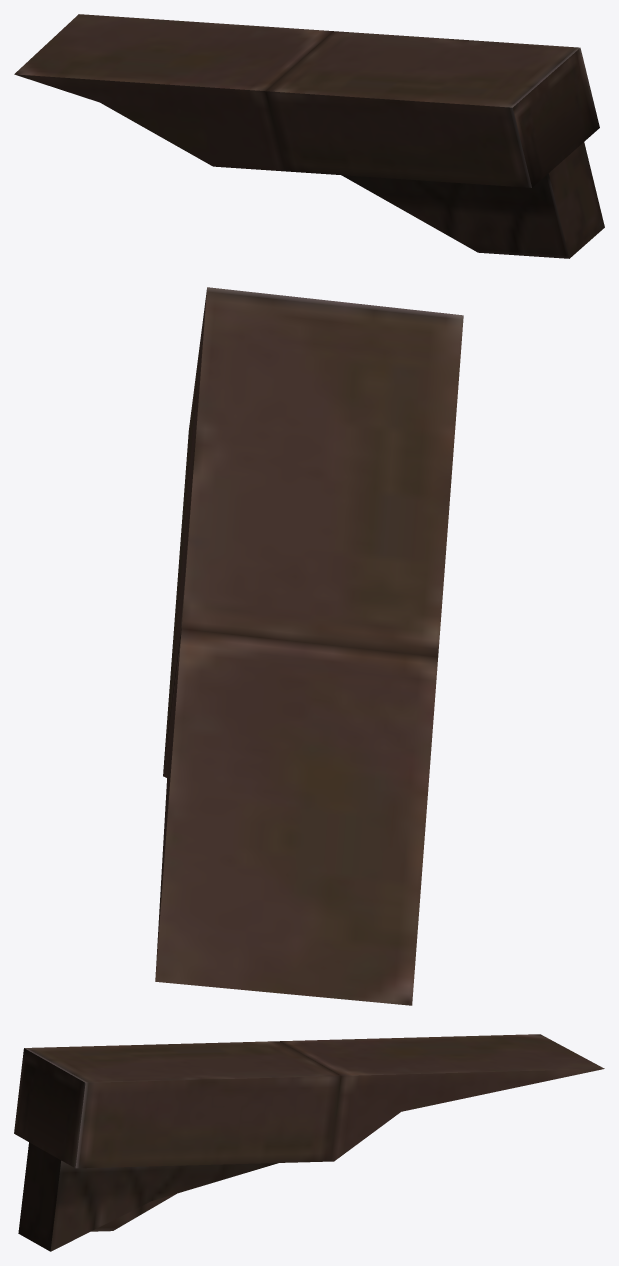
The model's file is Dxlm_qiang03.FBX.
3 views of the same model, one above another, from view 1: azimuth 30°, elevation 25°; view 2: azimuth 150°, elevation 25°; view 3: azimuth 270°, elevation 25° (orthographic). The views are drawn at different scales.
Parts seen in each view (by area): view 1: Dxlm_qiang03; view 2: Dxlm_qiang03; view 3: Dxlm_qiang03.
Part boxes in pixels (box(x1,y1,x2,y2)): Dxlm_qiang03: box(14, 14, 604, 258); Dxlm_qiang03: box(155, 287, 463, 1005); Dxlm_qiang03: box(14, 1034, 604, 1251).
Size of the model in its own units: 106 by 158 by 56.39.
